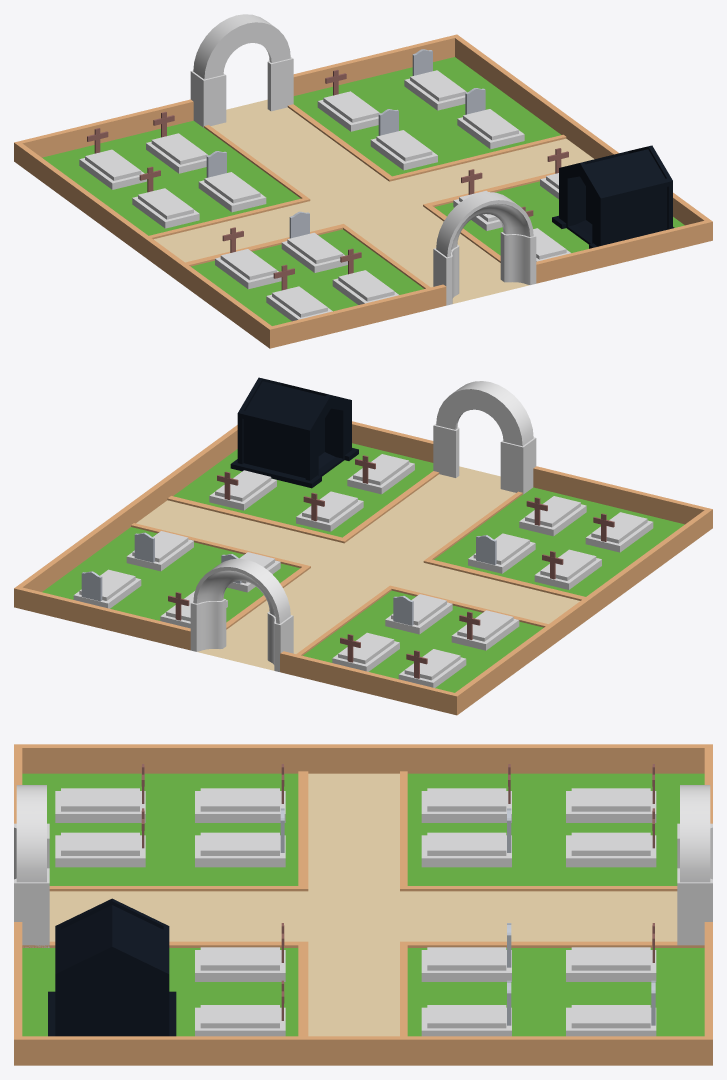
File: infrastructure-building-cemetary.fbx
3 views of the same model, one above another, from view 1: azimuth 30°, elevation 25°; view 2: azimuth 150°, elevation 25°; view 3: azimuth 270°, elevation 25° (orthographic). The views are drawn at different scales.
Parts seen in each view (by area): view 1: infrastructure-building-cemetary; view 2: infrastructure-building-cemetary; view 3: infrastructure-building-cemetary.
Part boxes in pixels (x1,y1,x2,y2): infrastructure-building-cemetary: [14, 14, 712, 348]; infrastructure-building-cemetary: [14, 377, 712, 715]; infrastructure-building-cemetary: [14, 744, 712, 1065].
Size of the model in its own units: 21.51 by 4.3 by 21.51.
